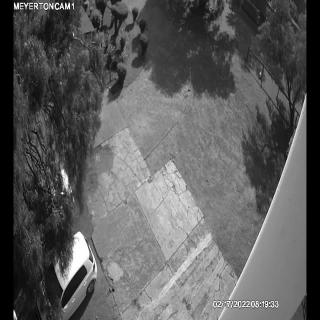car: (15, 228, 96, 318), (23, 169, 75, 244)
